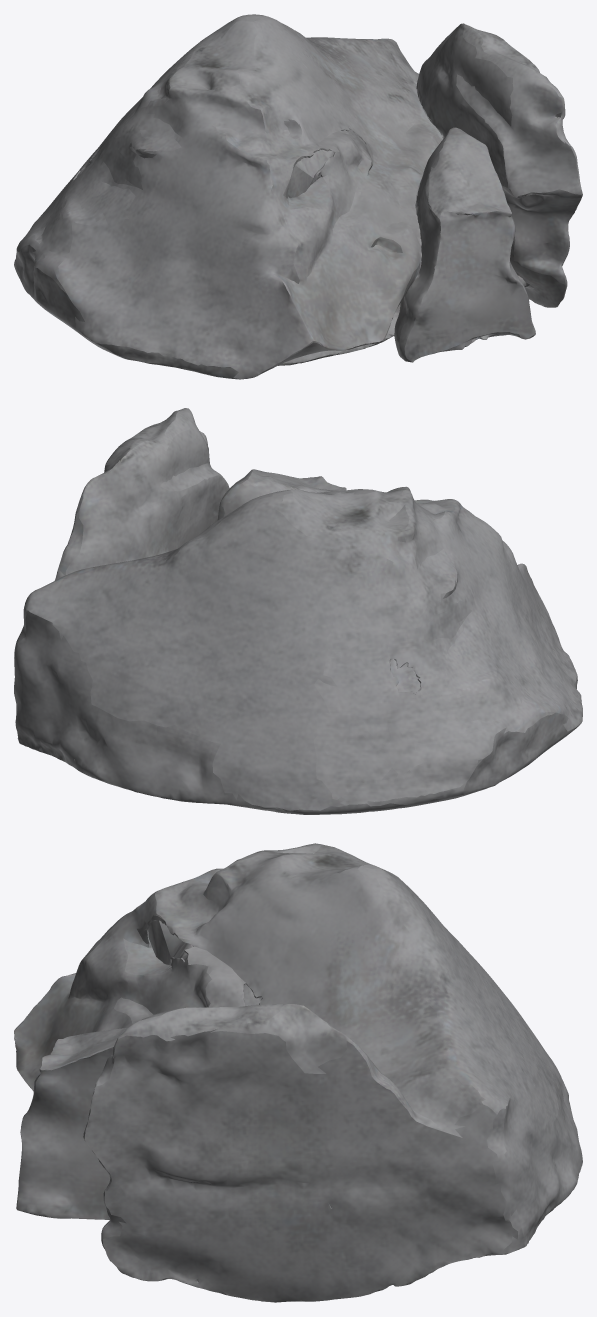
The picture shows the model from 3 angles, top to bottom: view 1: azimuth 30°, elevation 25°; view 2: azimuth 150°, elevation 25°; view 3: azimuth 270°, elevation 25°; orthographic projection. The views are drawn at different scales.
Parts seen in each view (by area): view 1: world; view 2: world; view 3: world.
Boxes of the visible parts, x1,y1,x2,y2 form: world: (14, 14, 582, 379); world: (14, 408, 582, 814); world: (14, 843, 582, 1302).
Size of the model in its own units: 1.2 by 0.7523 by 1.19.
1 material, 1 textured.
